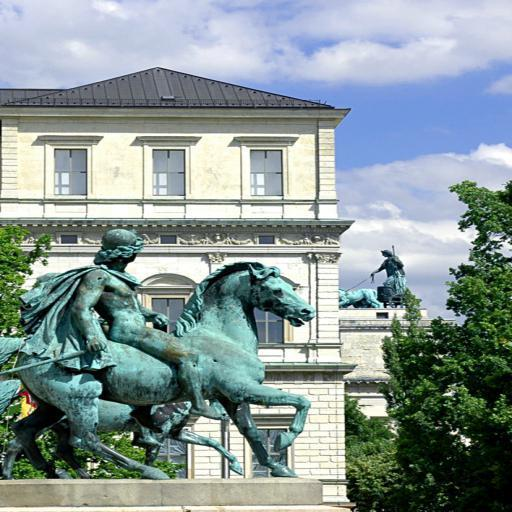horse: (0, 262, 316, 480)
